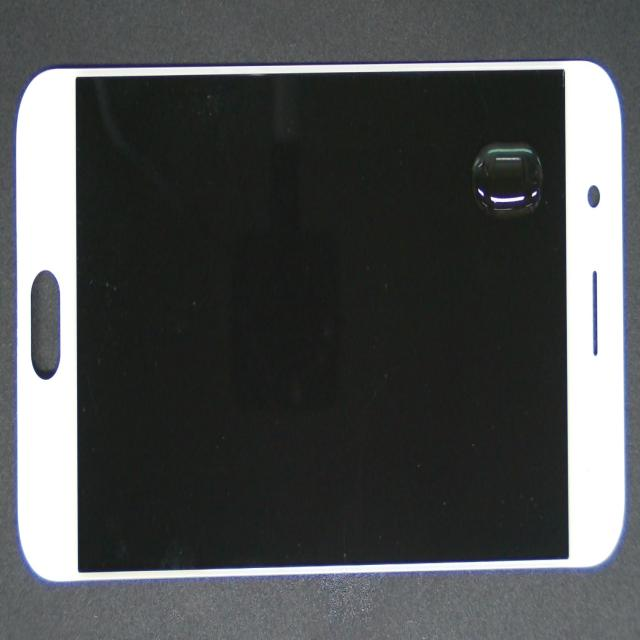oil: (464, 109, 554, 252)
